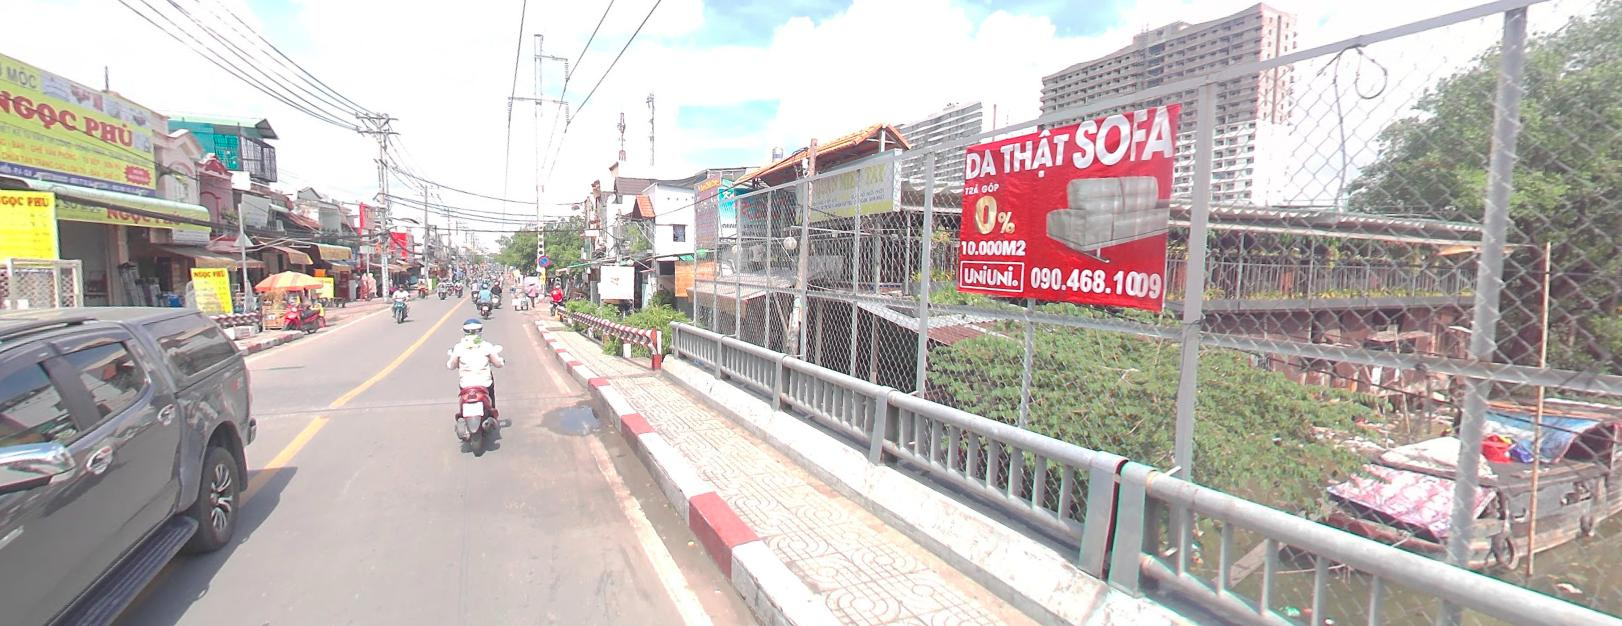Cam dung va do: (538, 254, 550, 265), (537, 254, 549, 264), (538, 254, 549, 264)
